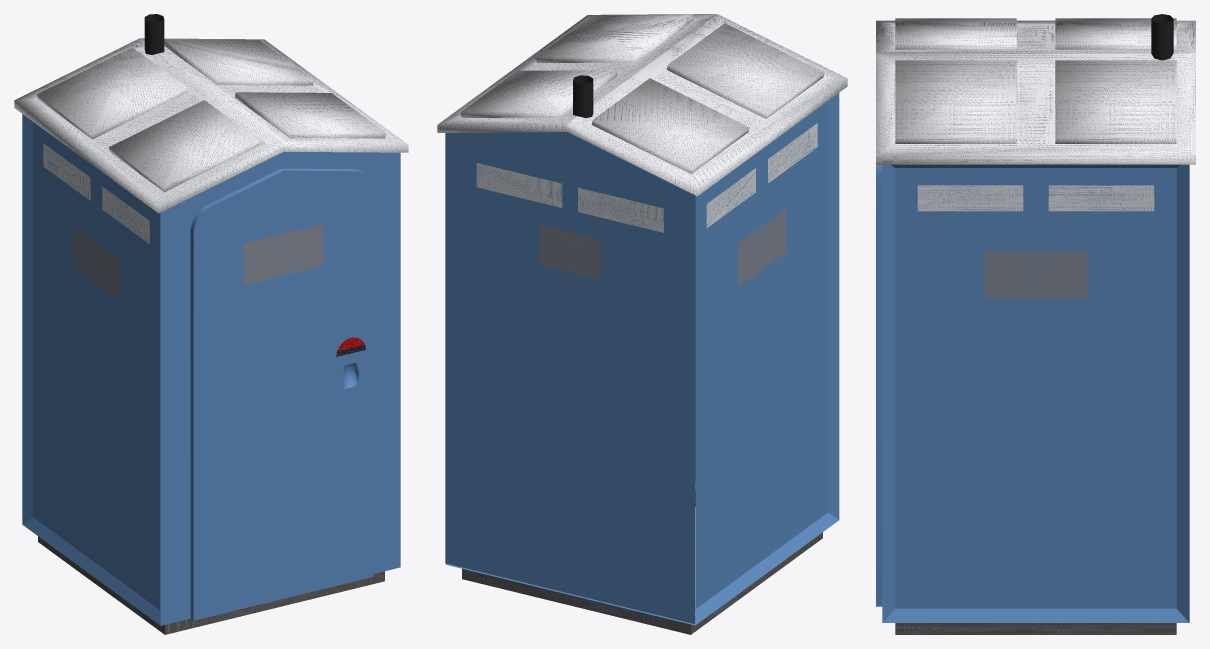
The model's file is toilet.dae.
3 renders of one model, left to right at view 1: azimuth 30°, elevation 25°; view 2: azimuth 150°, elevation 25°; view 3: azimuth 270°, elevation 25°, orthographic. The views are drawn at different scales.
Visible parts, largest first — view 1: Portable_Toilet (×12); view 2: Portable_Toilet (×15); view 3: Portable_Toilet (×11).
Boxes of the visible parts, x1,y1,x2,y2 form: Portable_Toilet (×12): [14, 14, 408, 634]; Portable_Toilet (×15): [437, 14, 847, 634]; Portable_Toilet (×11): [876, 14, 1195, 634].
Bounding box in the file's own units: 50 × 50 × 96.
